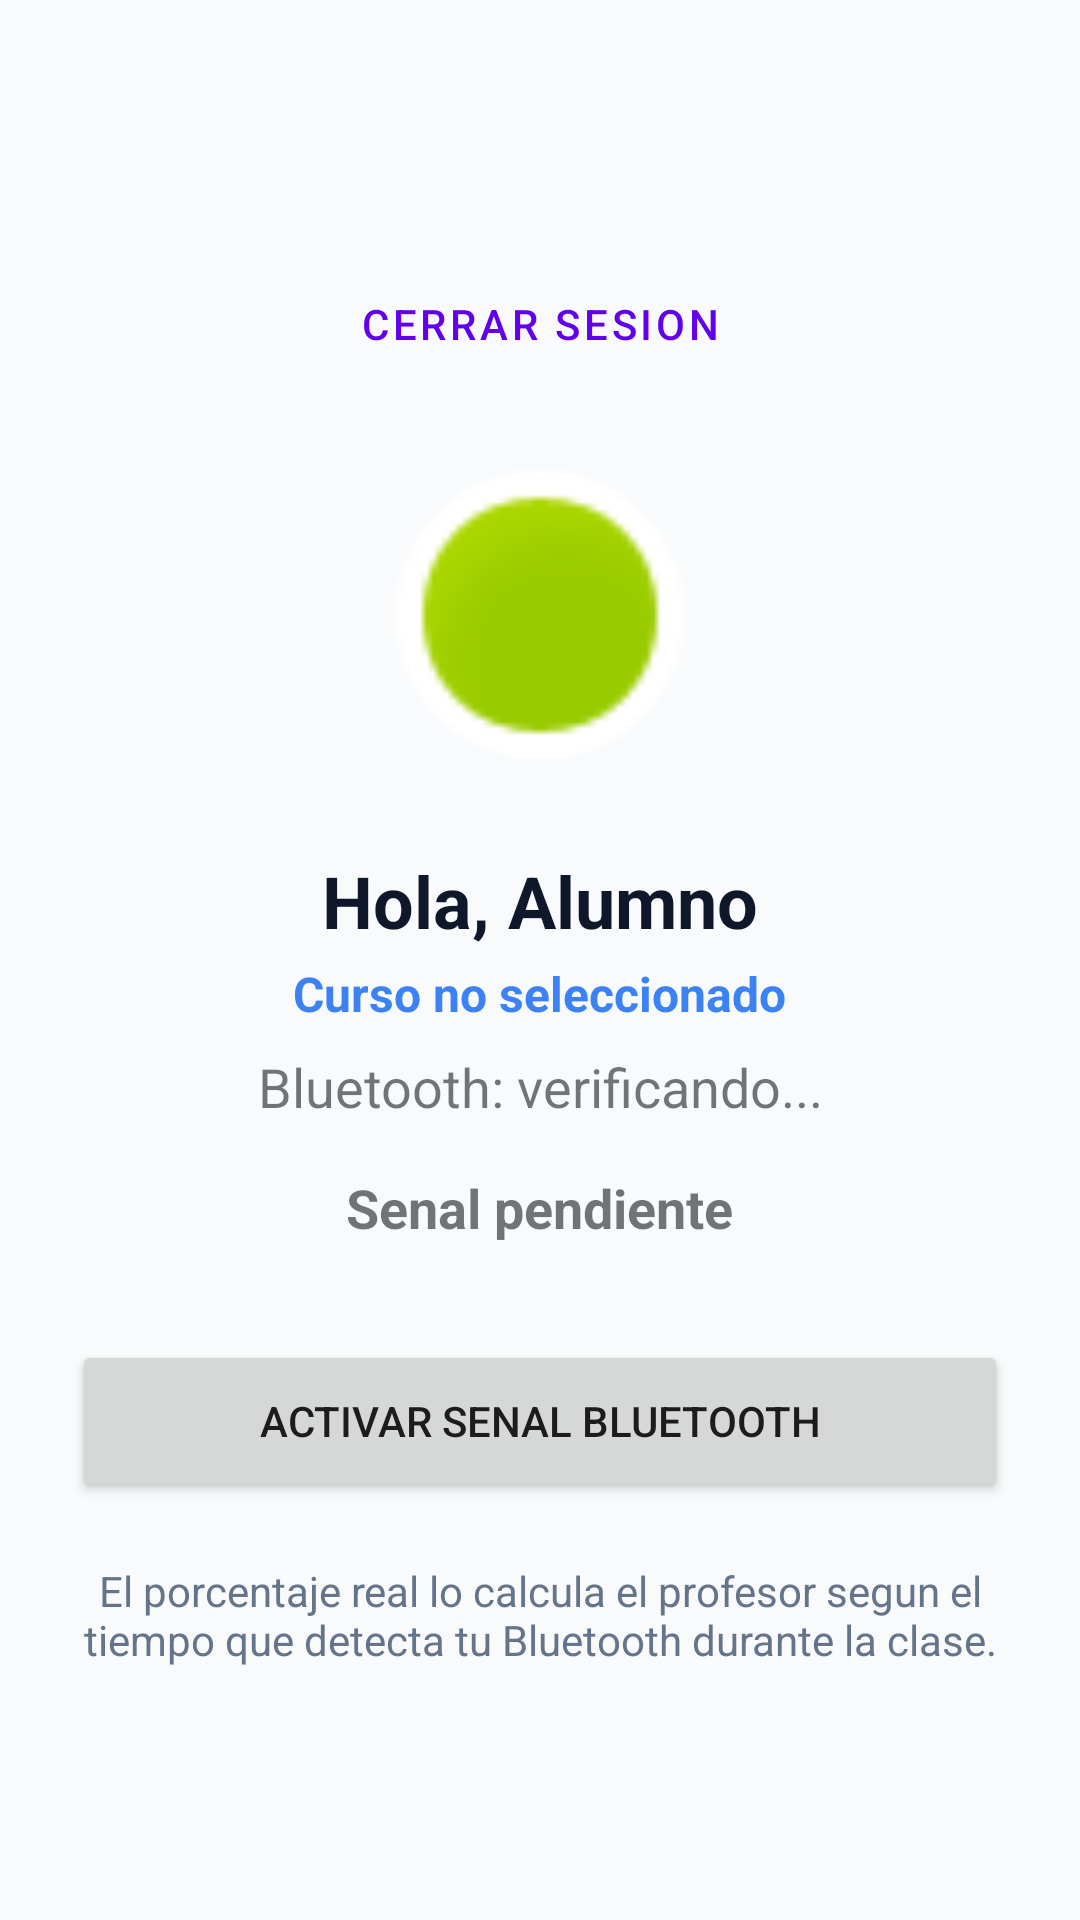

Where icons sit on this 1080x1920 app screen, as [left=x1, top=y1, right=x2, bottom=y2]:
presence online: [left=420, top=495, right=660, bottom=735]
